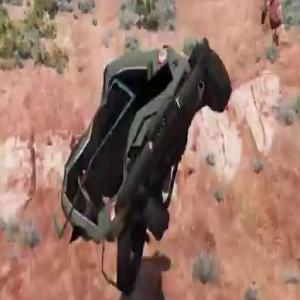fatal: (51, 28, 228, 295)
